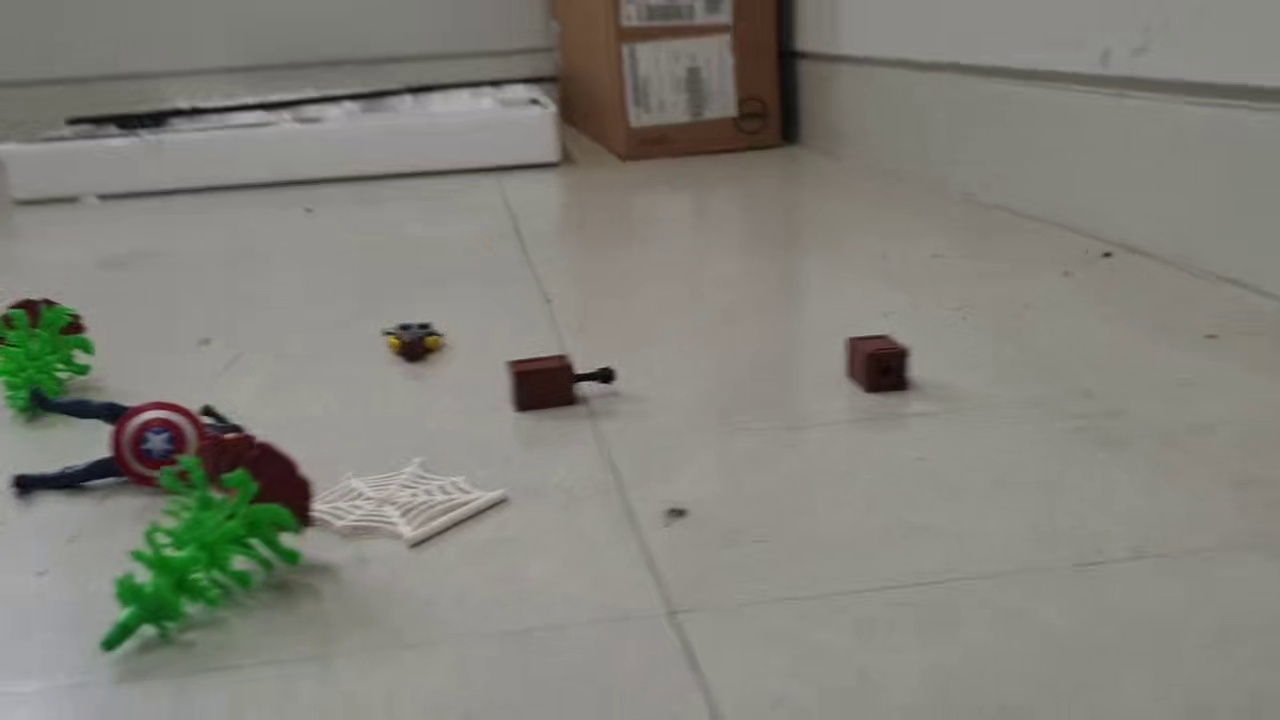box: (502, 350, 619, 414), (844, 332, 916, 400)
people: (7, 386, 273, 500), (383, 321, 448, 364)
tree: (100, 432, 316, 652), (1, 294, 96, 422)
web: (290, 456, 511, 549)
